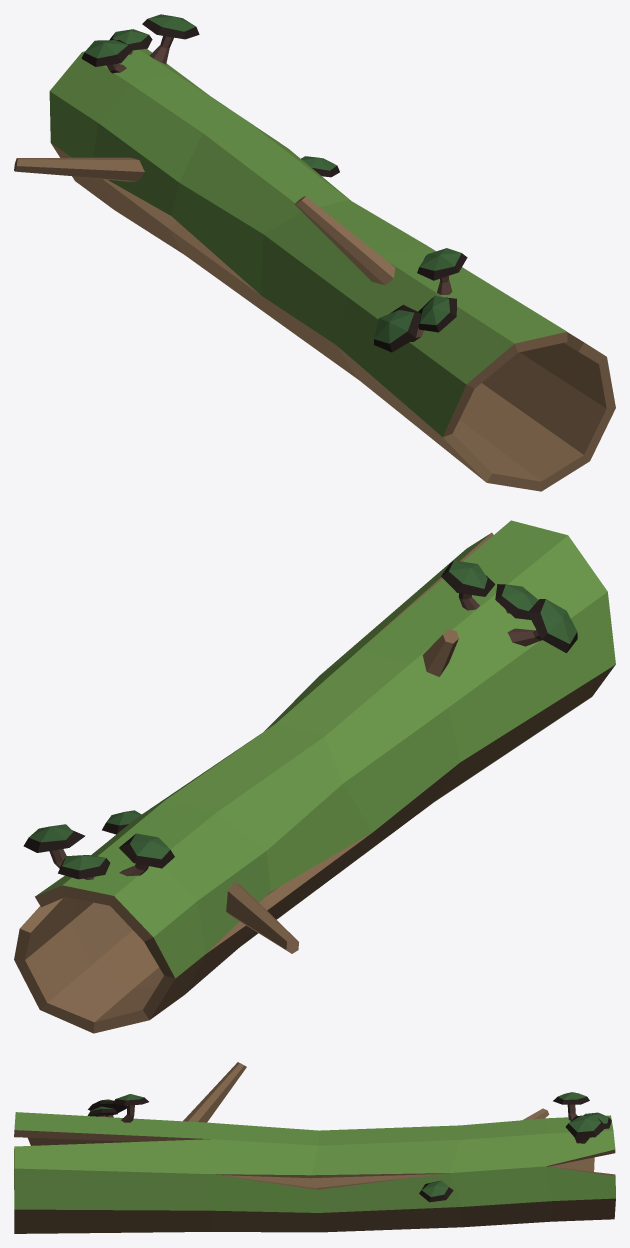
Rendered from wood_woodlog_moss.glb.
The picture shows the model from 3 angles, top to bottom: view 1: azimuth 30°, elevation 25°; view 2: azimuth 150°, elevation 25°; view 3: azimuth 270°, elevation 25°; orthographic projection. The views are drawn at different scales.
Visible parts, largest first — view 1: WoodLog_Moss_Cylinder.011; view 2: WoodLog_Moss_Cylinder.011; view 3: WoodLog_Moss_Cylinder.011.
Part boxes in pixels (bbox=[...]): WoodLog_Moss_Cylinder.011: bbox=[14, 14, 615, 491]; WoodLog_Moss_Cylinder.011: bbox=[14, 520, 615, 1033]; WoodLog_Moss_Cylinder.011: bbox=[14, 1062, 615, 1233].
Bounding box in the file's own units: 1.04 × 0.8 × 3.1.
